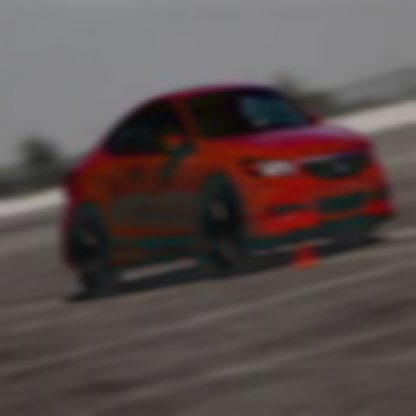Vehicle: (62, 86, 396, 294)
